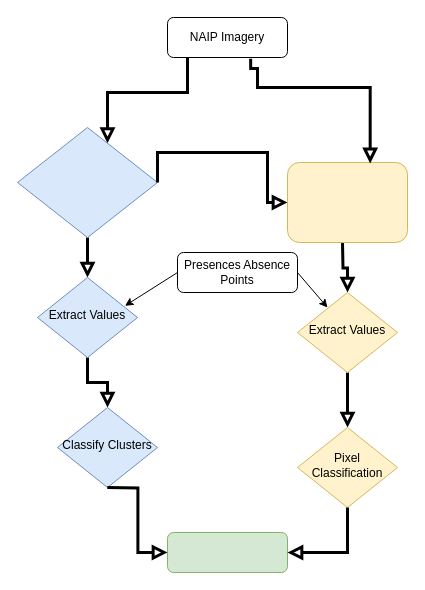
Some shapes in this 425 by 590 pixel diagram are drawn without their labels. Each missing label, with the centre of its shape:
"Add cluster values to NAIP (10 paramaters)" goes at pixel 347 202.
"Combined Classification" goes at pixel 227 552.
"Generate Clusters (5 parameters" goes at pixel 87 182.
